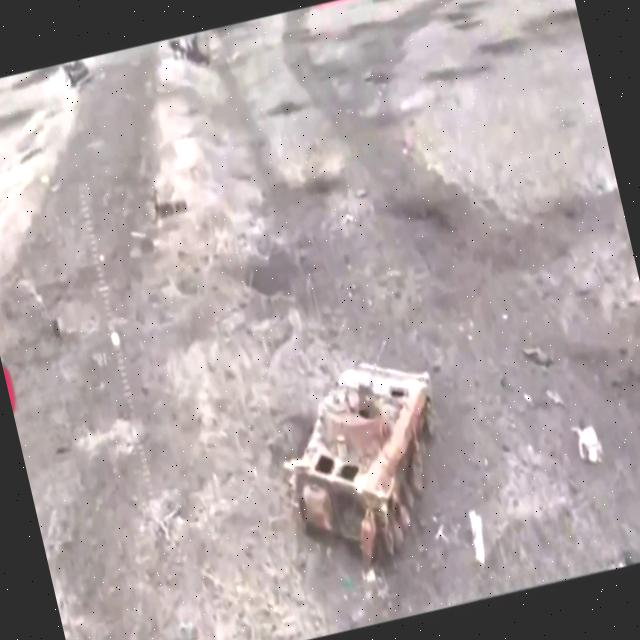Destroyed: (268, 345, 471, 585)
